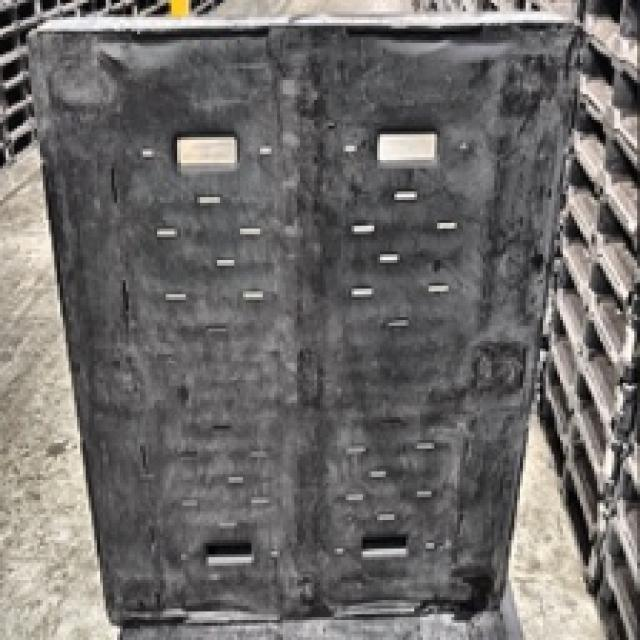igps: (18, 5, 596, 634)
